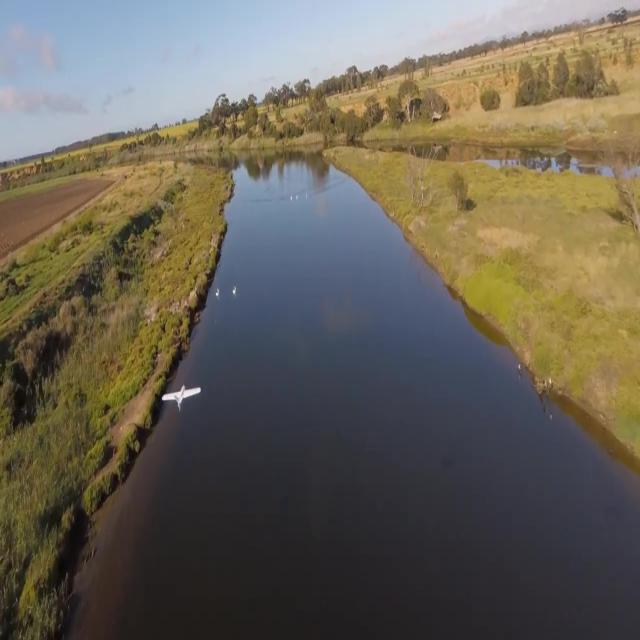iha: (161, 382, 202, 413)
